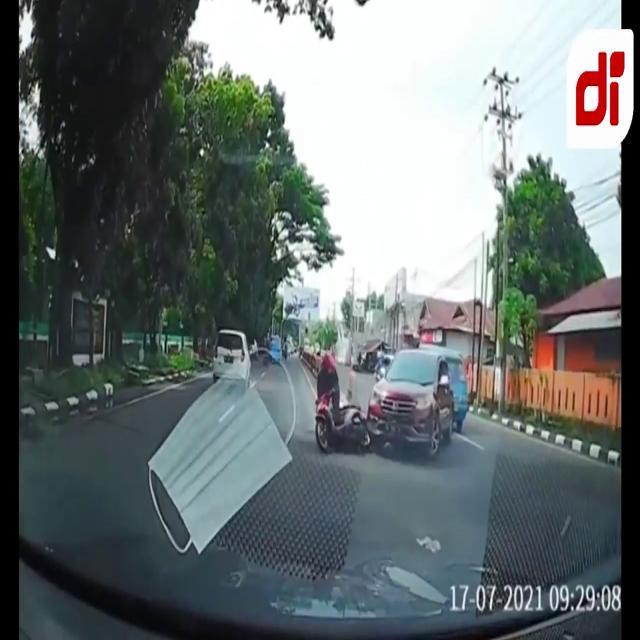multiple_accident: (308, 320, 487, 466)
normal: (206, 320, 270, 392)
